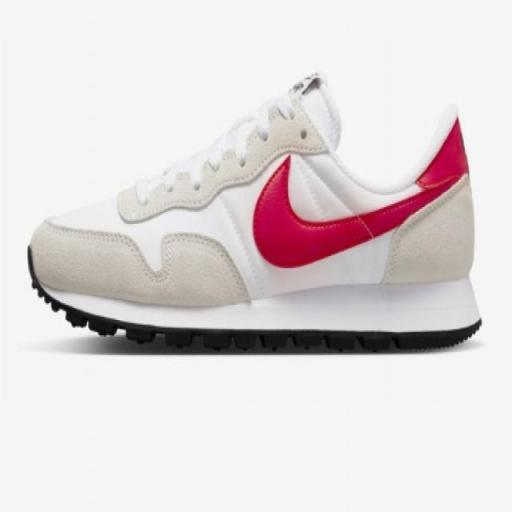Nike: (249, 157, 463, 274)
